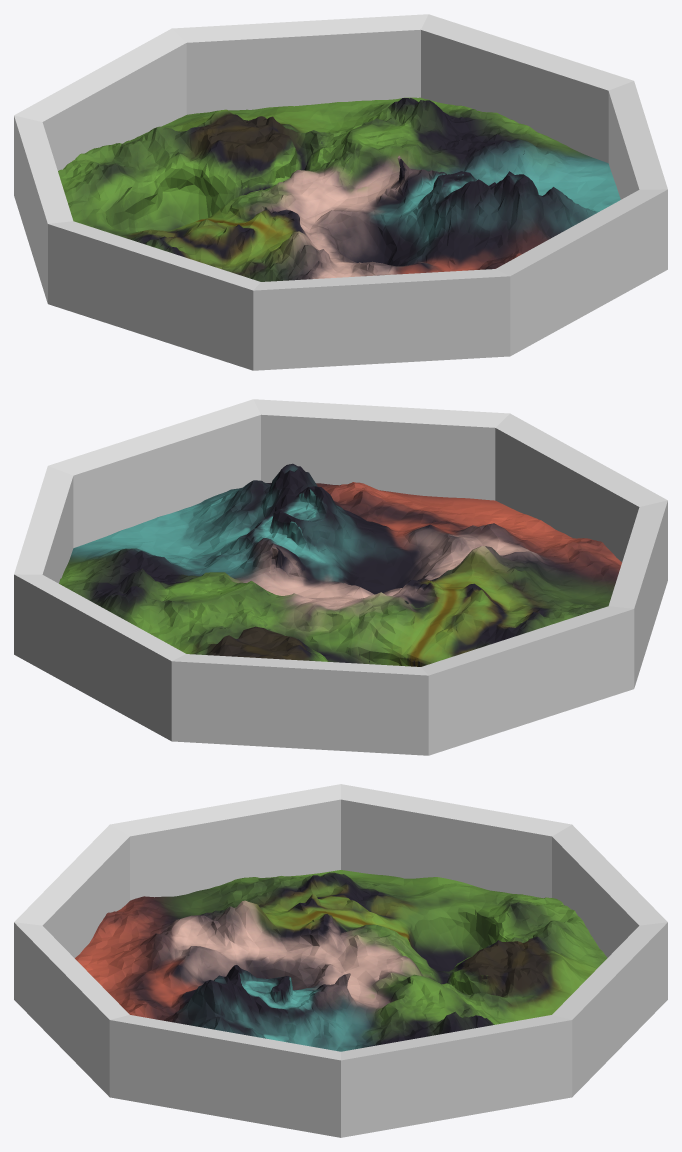
File: lobbyWithCollisionWithoutComp2.glb
3 views of the same model, one above another, from view 1: azimuth 30°, elevation 25°; view 2: azimuth 150°, elevation 25°; view 3: azimuth 270°, elevation 25° (orthographic). The views are drawn at different scales.
Parts seen in each view (by area): view 1: land limit, Landscape; view 2: land limit, Landscape; view 3: land limit, Landscape.
Part boxes in pixels (x1=…): land limit: x1=14, y1=14, x2=667, y2=370; Landscape: x1=58, y1=97, x2=620, y2=281; land limit: x1=14, y1=399, x2=667, y2=755; Landscape: x1=59, y1=463, x2=621, y2=666; land limit: x1=14, y1=784, x2=667, y2=1137; Landscape: x1=75, y1=870, x2=607, y2=1051.
Size of what is drawn, in the model's own units: 526 by 98.97 by 526.
Materials: 1 (1 with a texture image).
